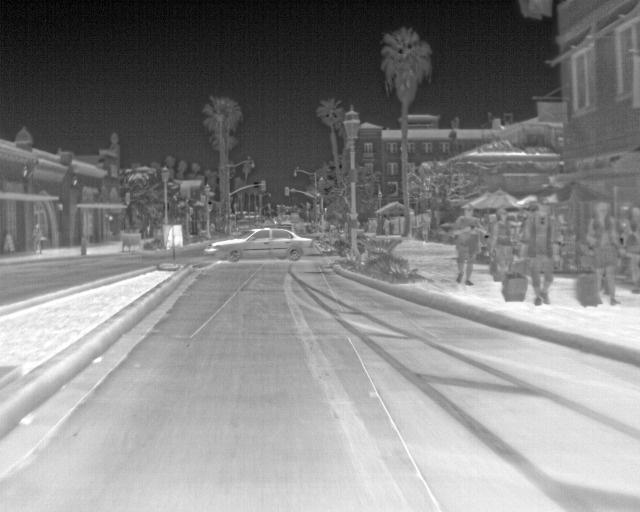bicycle: (203, 225, 314, 263)
empty: (516, 203, 563, 305), (585, 202, 623, 308), (450, 204, 488, 286), (490, 209, 514, 283), (31, 223, 46, 256)
